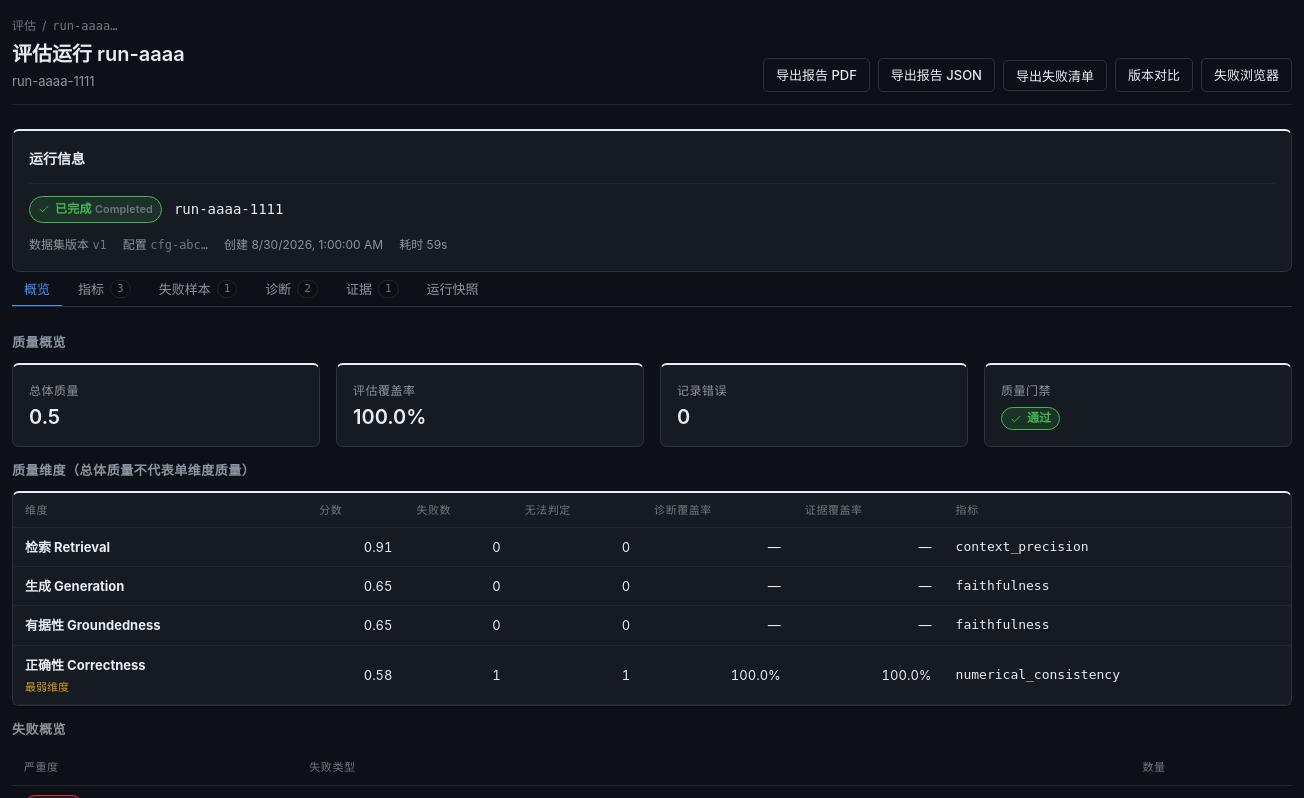
Test: 评估工作台 › 质量概览 / 指标概览 / 失败概览 / 失败样本均呈现（分 Tab）
The width and height of the screenshot is (1304, 798).
Expected: the heading "质量概览" is shown, left=12, top=335, right=66, bottom=351
Expected: the heading "失败概览" is shown, left=12, top=722, right=66, bottom=738
Click the tab with test id "tab-metrics": click(104, 290) left=66, top=272, right=143, bottom=307
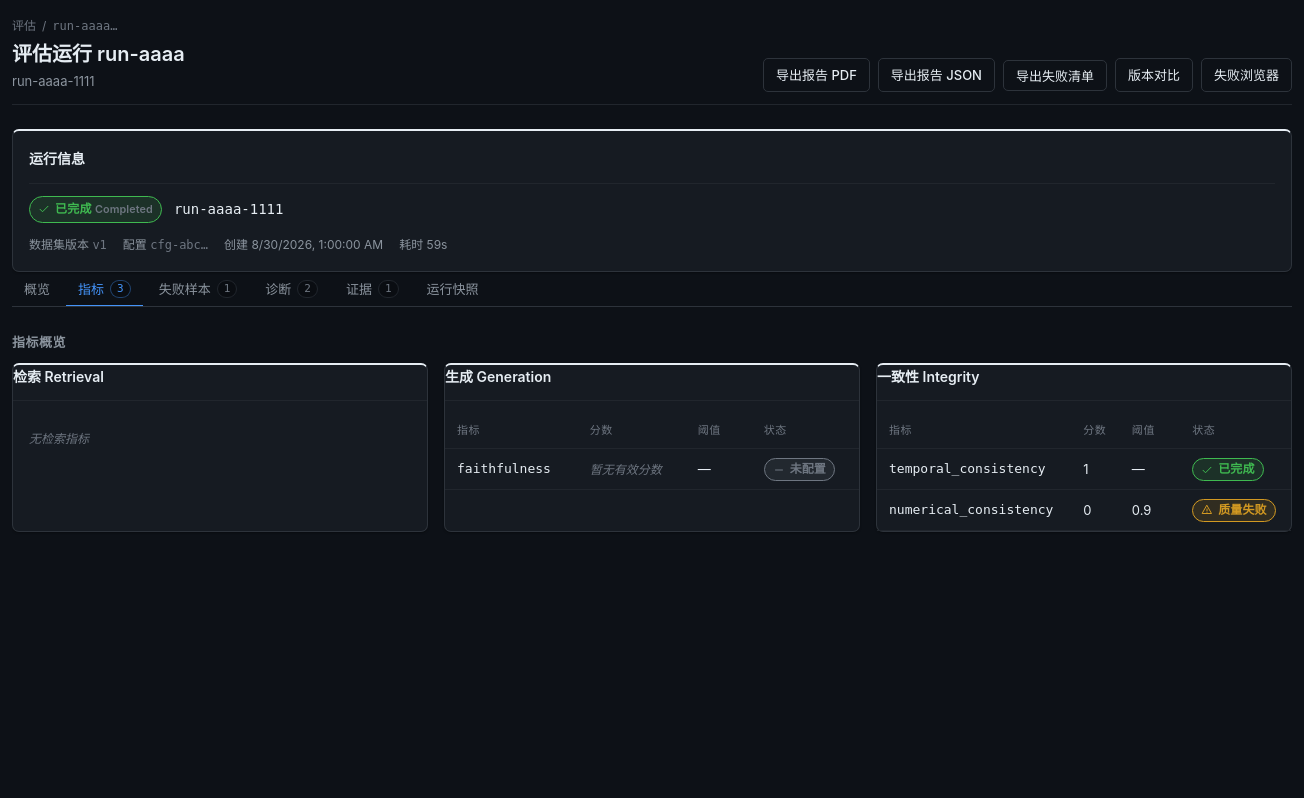
Now the heading "指标概览" is shown, box left=12, top=335, right=66, bottom=351
Click the tab with test id "tab-failures": click(198, 290) left=147, top=272, right=249, bottom=307
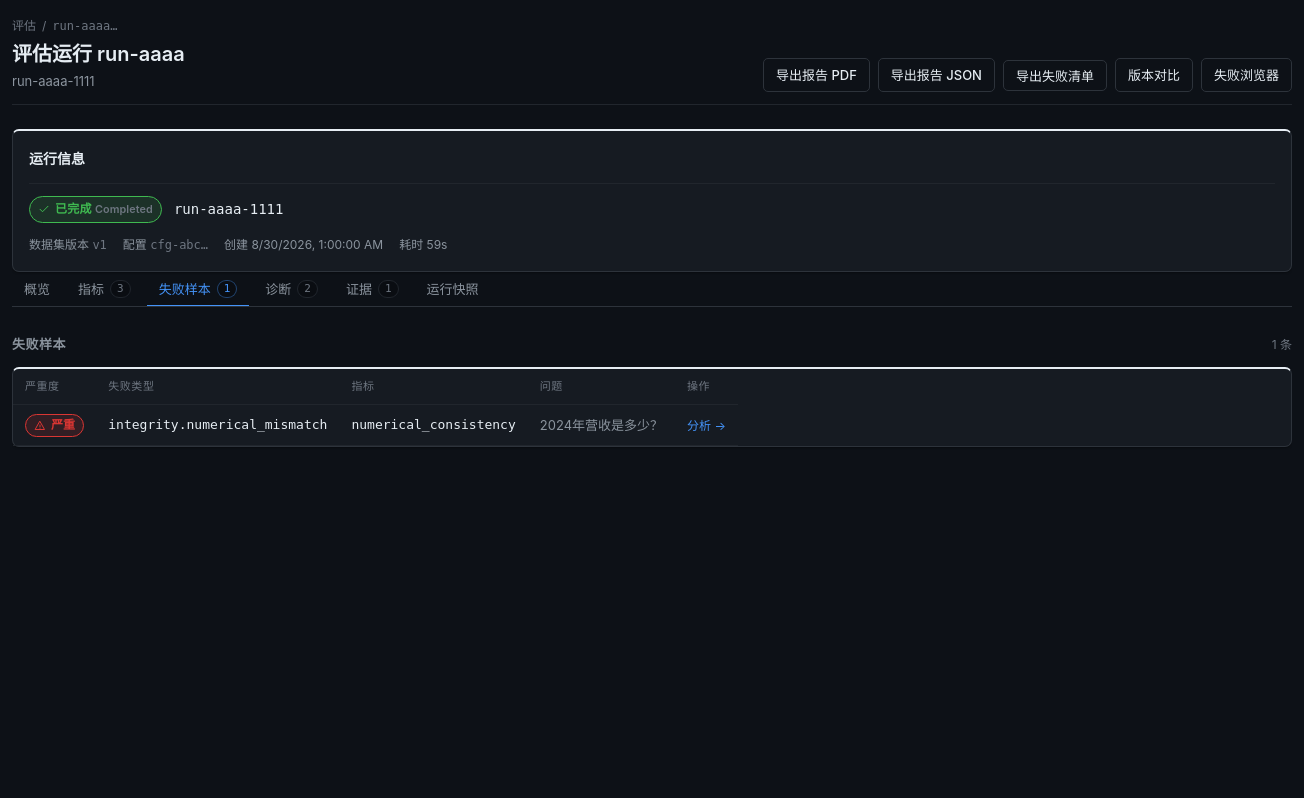
Now the heading "失败样本" is shown, box left=12, top=338, right=66, bottom=353
Click the tab with test id "tab-metrics": click(104, 290) left=66, top=272, right=143, bottom=307
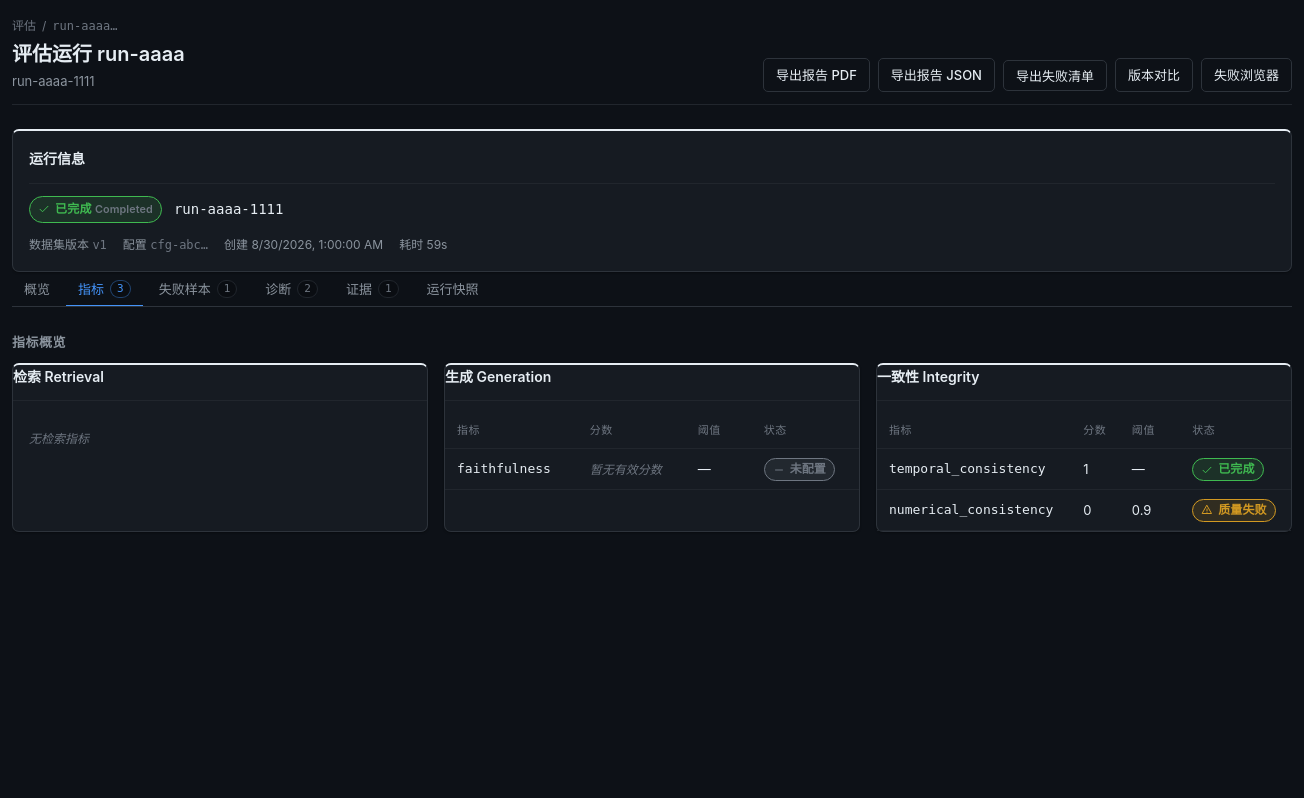
Now the text "暂无有效分数" is shown, box left=590, top=462, right=662, bottom=477
